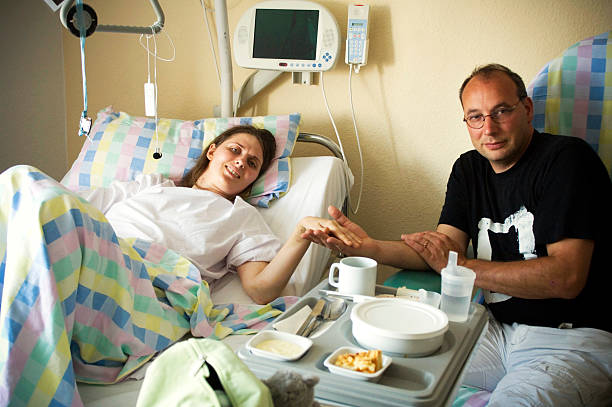bedside_monitor: (230, 1, 340, 74)
hospital_bed: (1, 98, 354, 407)
overbed_table: (240, 261, 488, 406)
patient: (1, 124, 362, 407)
sofa: (379, 32, 612, 293)
visitor: (299, 62, 612, 407)
